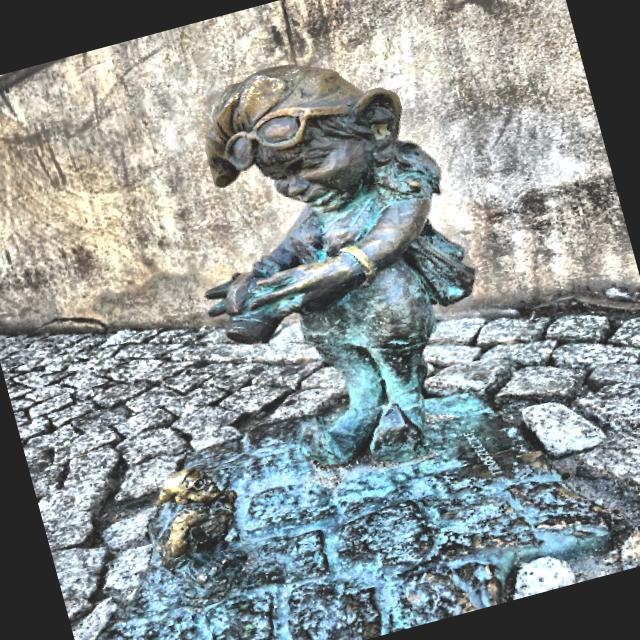Troszka i Adoratorek: (126, 65, 625, 640)
